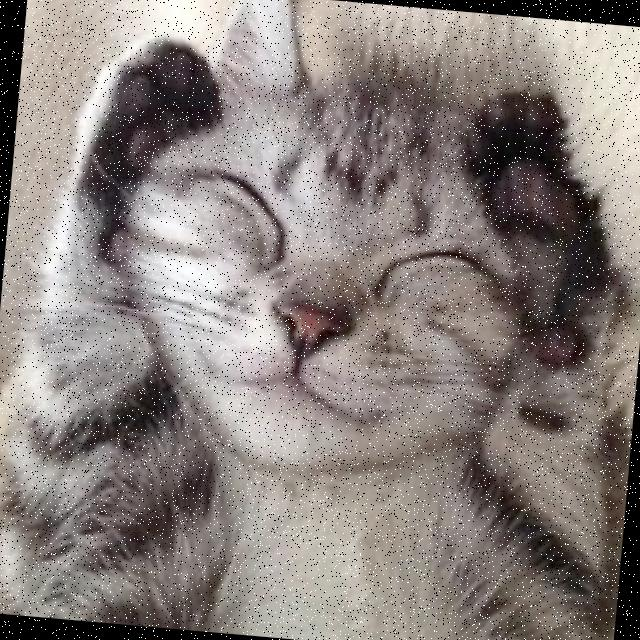Happy: (126, 113, 524, 470)
